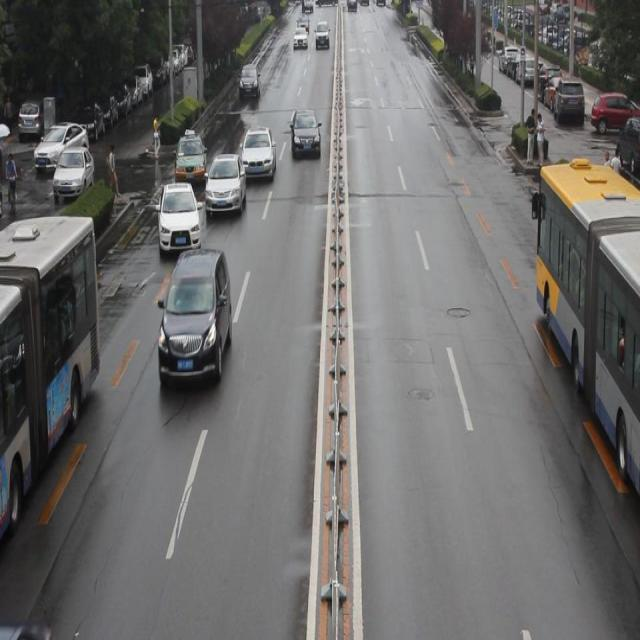car: (158, 248, 232, 392), (158, 182, 200, 260), (206, 152, 244, 219), (175, 130, 207, 190), (240, 128, 274, 183), (288, 110, 321, 162)
van: (530, 174, 640, 502), (1, 213, 100, 525)
